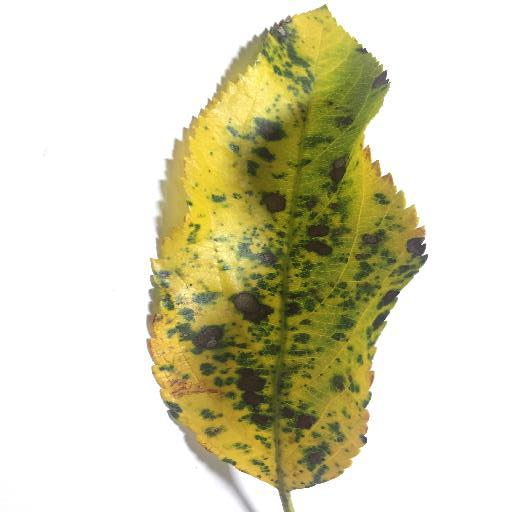Brown_Spot: (233, 371, 272, 429), (229, 287, 282, 328), (313, 154, 347, 191), (306, 220, 334, 249), (287, 409, 314, 438), (260, 187, 284, 213), (404, 239, 428, 265), (254, 122, 281, 138), (196, 330, 217, 347)
